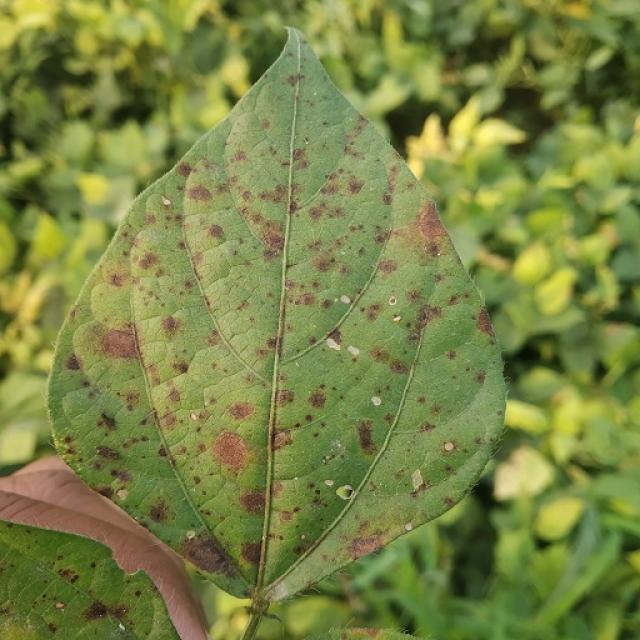Anthracnose: (281, 250, 358, 321), (206, 422, 264, 470), (180, 533, 237, 579), (212, 429, 251, 473), (415, 205, 451, 251), (100, 326, 139, 359), (413, 302, 444, 333), (349, 533, 385, 557), (82, 600, 116, 622), (309, 249, 338, 274), (356, 419, 377, 453), (260, 226, 285, 251), (475, 307, 495, 337), (239, 491, 266, 513), (240, 540, 263, 565), (225, 401, 254, 420), (185, 183, 212, 203), (147, 502, 169, 524), (136, 251, 160, 271), (261, 241, 282, 262), (94, 445, 121, 460), (308, 389, 327, 410), (57, 567, 80, 584), (376, 259, 398, 276), (161, 314, 179, 333), (273, 431, 292, 449), (98, 411, 116, 430), (325, 328, 343, 347), (64, 352, 81, 371), (388, 359, 408, 375), (286, 72, 304, 87), (291, 148, 307, 164), (174, 360, 190, 375), (167, 388, 181, 404), (287, 198, 300, 214), (265, 337, 279, 350), (473, 371, 486, 384), (445, 349, 458, 360), (261, 119, 270, 129), (134, 590, 142, 598)
Blackgram: (49, 30, 505, 602)
